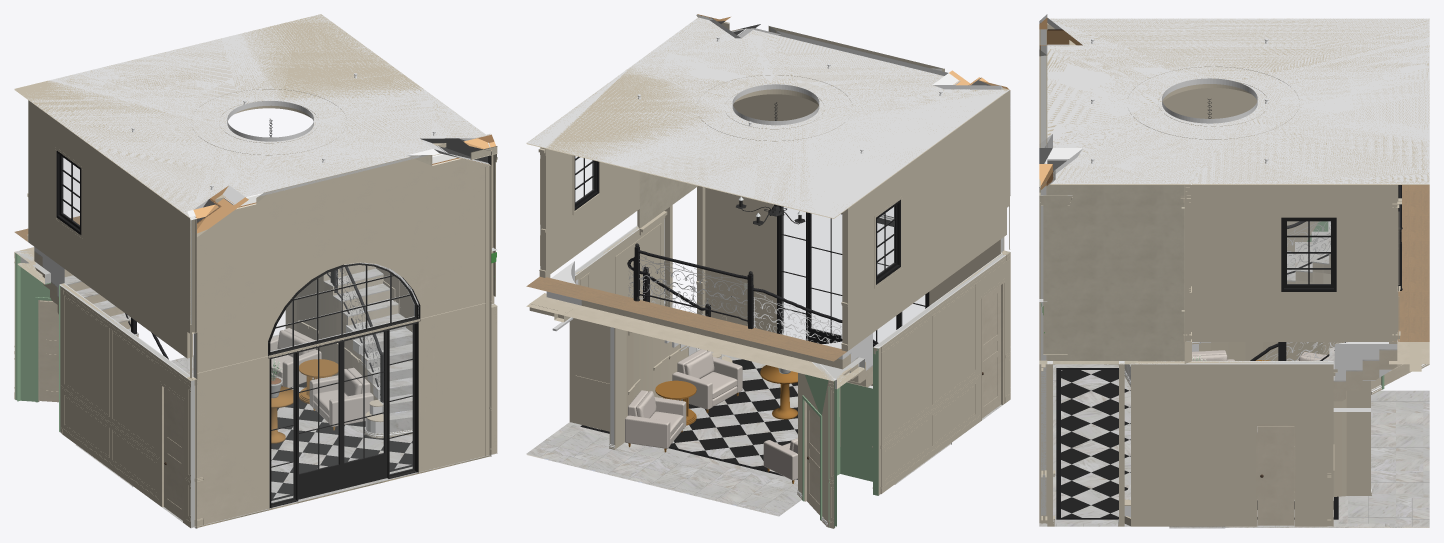
The model's file is entry-64e2716580d8.glb.
3 renders of one model, left to right at view 1: azimuth 30°, elevation 25°; view 2: azimuth 150°, elevation 25°; view 3: azimuth 270°, elevation 25°, orthographic. The views are drawn at different scales.
Visible parts, largest first — view 1: entry-9d91b47435c6fb33, entry-4edf3a9420c06709, entry-e8793759323e04f0, entry-698abdfdc6fb970d, entry-9ca48b730e5de4b2, entry-746250f96522f643, entry-85f0fd939e0fcc78, entry-8d5f500af8e4c699, entry-785988ccf932ddd5, entry-969fb0f33943ba89, entry-c4ac463b6a960119, entry-a5eabba2ad6474eb (+18 smaller); view 2: entry-9d91b47435c6fb33, entry-746250f96522f643, entry-e8793759323e04f0, entry-85f0fd939e0fcc78, entry-2575515a05775d9e, entry-d5a4a1b5d3594c04, entry-698abdfdc6fb970d, entry-ba376bd68a22f7f3, entry-c4ac463b6a960119, entry-c51ecd664a3b22a3, entry-8b5649904563319a, entry-6a051330000fbca1 (+28 smaller); view 3: entry-9d91b47435c6fb33, entry-6a051330000fbca1, entry-c51ecd664a3b22a3, entry-e8793759323e04f0, entry-62353aa10fc57f23, entry-c4ac463b6a960119, entry-ba376bd68a22f7f3, entry-2575515a05775d9e, entry-20932135983111ad, entry-489e9ad801b4b62e, entry-80d276f58a4dc5cb, entry-224035c89a69c041 (+19 smaller).
Part boxes in pixels (<box>): entry-9d91b47435c6fb33: <box>14,14,485,218</box>; entry-4edf3a9420c06709: <box>195,150,491,372</box>; entry-e8793759323e04f0: <box>14,14,483,217</box>; entry-698abdfdc6fb970d: <box>269,322,418,508</box>; entry-9ca48b730e5de4b2: <box>195,302,490,526</box>; entry-746250f96522f643: <box>28,100,192,358</box>; entry-85f0fd939e0fcc78: <box>60,283,192,525</box>; entry-8d5f500af8e4c699: <box>268,262,420,358</box>; entry-785988ccf932ddd5: <box>196,150,491,373</box>; entry-969fb0f33943ba89: <box>196,302,490,526</box>; entry-c4ac463b6a960119: <box>271,379,412,498</box>; entry-a5eabba2ad6474eb: <box>14,251,50,401</box>; entry-9d91b47435c6fb33: <box>526,17,1008,218</box>; entry-746250f96522f643: <box>842,92,1006,350</box>; entry-e8793759323e04f0: <box>528,18,1008,210</box>; entry-85f0fd939e0fcc78: <box>873,253,1006,494</box>; entry-2575515a05775d9e: <box>526,275,851,381</box>; entry-d5a4a1b5d3594c04: <box>706,188,1007,389</box>; entry-698abdfdc6fb970d: <box>777,205,929,346</box>; entry-ba376bd68a22f7f3: <box>540,428,800,515</box>; entry-c4ac463b6a960119: <box>586,354,797,472</box>; entry-c51ecd664a3b22a3: <box>540,147,639,277</box>; entry-8b5649904563319a: <box>570,281,609,431</box>; entry-6a051330000fbca1: <box>569,219,663,421</box>; entry-9d91b47435c6fb33: <box>1041,18,1429,184</box>; entry-6a051330000fbca1: <box>1131,361,1333,526</box>; entry-c51ecd664a3b22a3: <box>1192,184,1398,341</box>; entry-e8793759323e04f0: <box>1042,14,1429,183</box>; entry-62353aa10fc57f23: <box>1047,184,1191,364</box>; entry-c4ac463b6a960119: <box>1061,370,1333,517</box>; entry-ba376bd68a22f7f3: <box>1348,390,1429,523</box>; entry-2575515a05775d9e: <box>1389,185,1429,364</box>; entry-20932135983111ad: <box>1281,217,1336,291</box>; entry-489e9ad801b4b62e: <box>1043,195,1067,354</box>; entry-80d276f58a4dc5cb: <box>1257,426,1294,525</box>; entry-224035c89a69c041: <box>1346,380,1370,495</box>.
Size of the model in its own units: 6.54 by 6.44 by 6.51.
48 materials, 9 textured.
